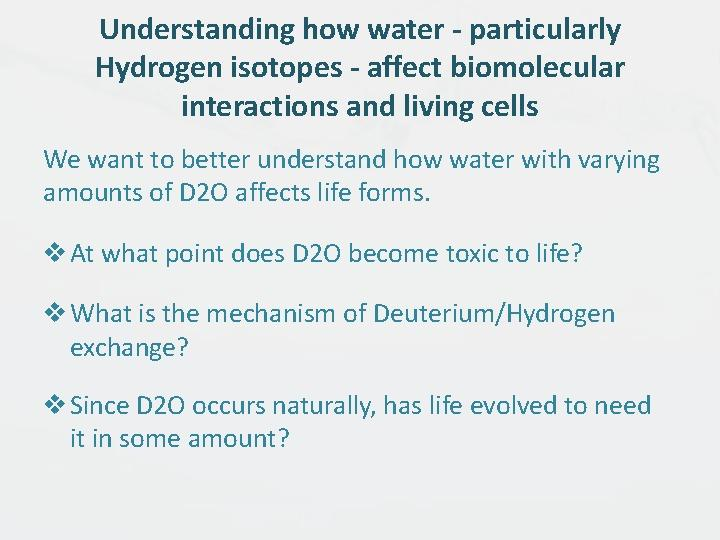paragraph: (30, 135, 712, 499)
title: (86, 5, 654, 128)
